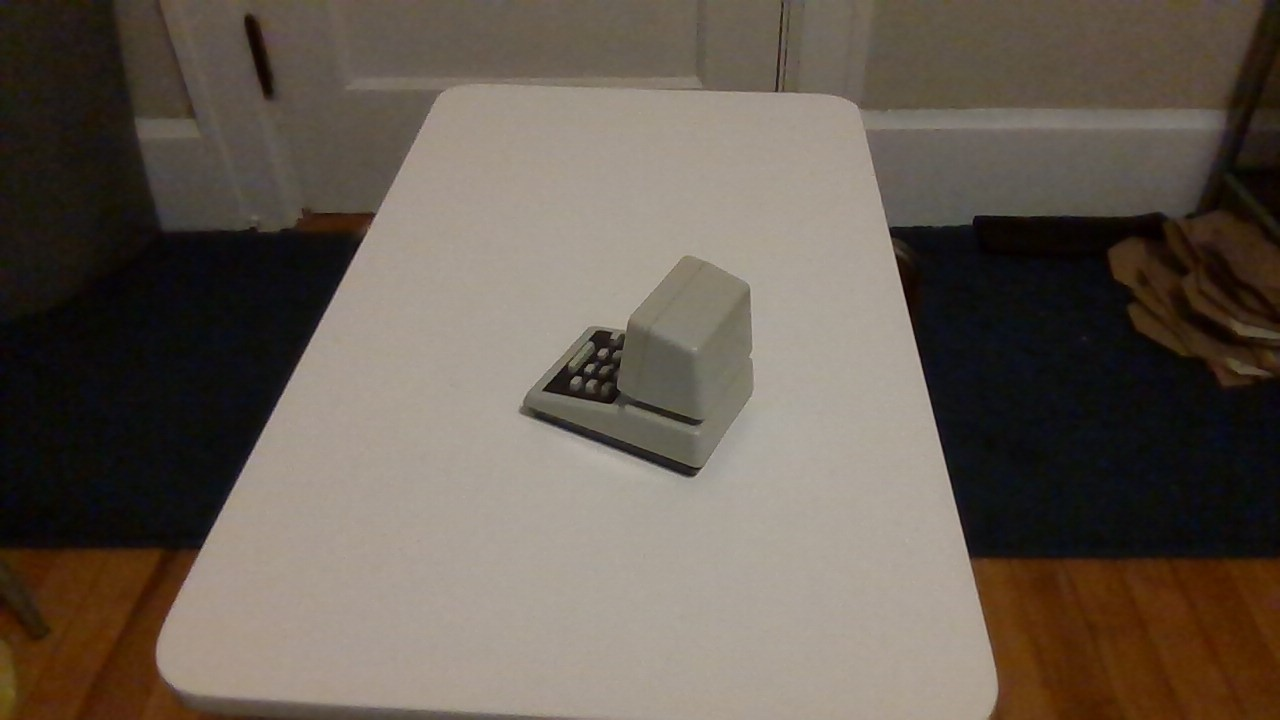Toy: (515, 223, 761, 493)
